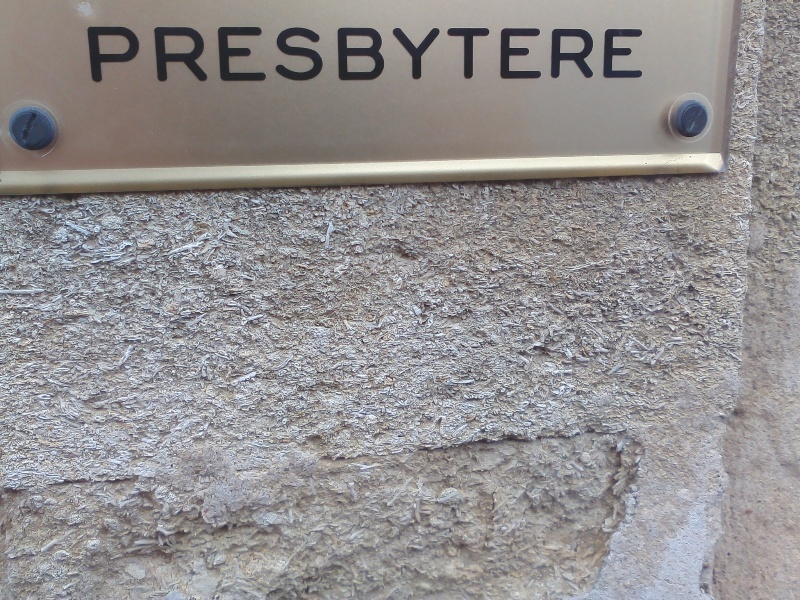text: (97, 23, 112, 85), (113, 23, 128, 85), (129, 23, 144, 85), (145, 23, 160, 85), (161, 23, 176, 85), (177, 23, 192, 85), (193, 23, 208, 85), (209, 23, 224, 85), (225, 23, 240, 85), (241, 23, 256, 85), (257, 23, 272, 85), (273, 23, 288, 85), (289, 23, 304, 85), (305, 23, 320, 85), (321, 23, 336, 85), (337, 23, 352, 85), (353, 23, 368, 85), (369, 23, 384, 85), (385, 23, 400, 85), (401, 23, 416, 85), (417, 23, 432, 85), (433, 23, 448, 85), (449, 23, 464, 85), (465, 23, 480, 85), (481, 23, 496, 85), (497, 23, 512, 85), (513, 23, 528, 85), (529, 23, 544, 85), (545, 23, 560, 85), (561, 23, 576, 85), (577, 23, 592, 85), (593, 23, 608, 85), (609, 23, 624, 85), (625, 23, 640, 85), (86, 23, 96, 85), (641, 23, 645, 85)
